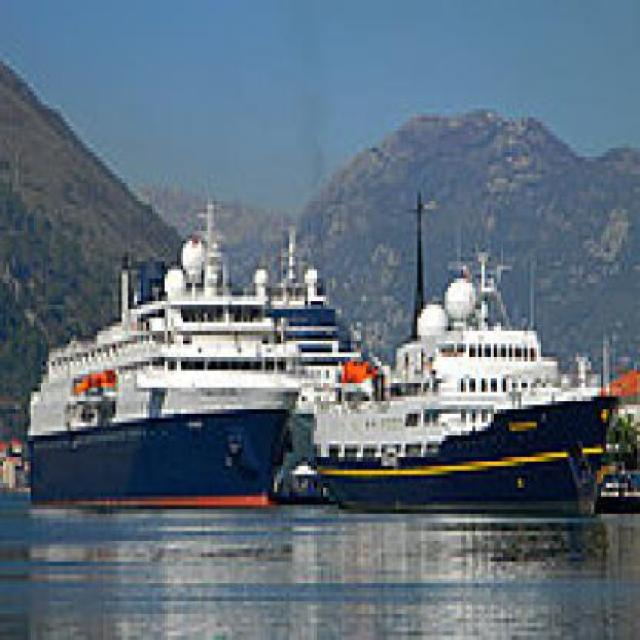cruise: (13, 214, 312, 523), (303, 267, 626, 541)
